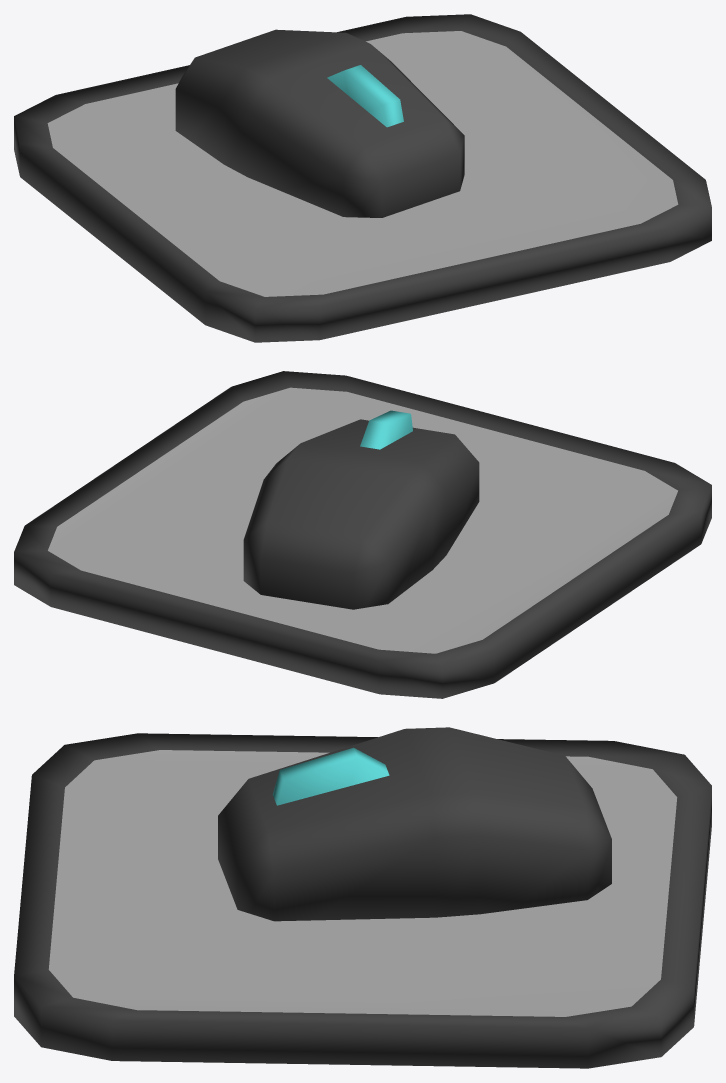
File: mesh_mouse_01.fbx
The picture shows the model from 3 angles, top to bottom: view 1: azimuth 30°, elevation 25°; view 2: azimuth 150°, elevation 25°; view 3: azimuth 270°, elevation 25°; orthographic projection. The views are drawn at different scales.
Parts seen in each view (by area): view 1: mesh_mouse_01; view 2: mesh_mouse_01; view 3: mesh_mouse_01.
Boxes of the visible parts, bbox=[...] form: mesh_mouse_01: bbox=[14, 14, 711, 342]; mesh_mouse_01: bbox=[14, 371, 711, 698]; mesh_mouse_01: bbox=[14, 727, 711, 1068].
Bounding box in the file's own units: 10.51 × 2.66 × 10.51.
